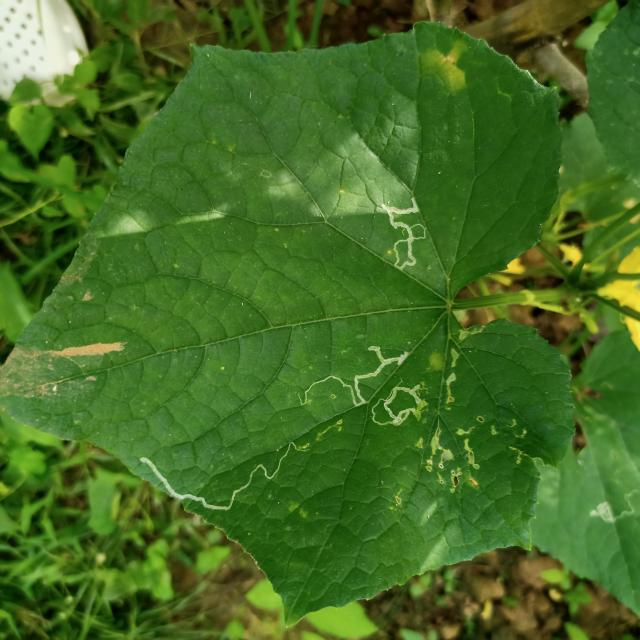disease_cucumber: (430, 38, 468, 88)
